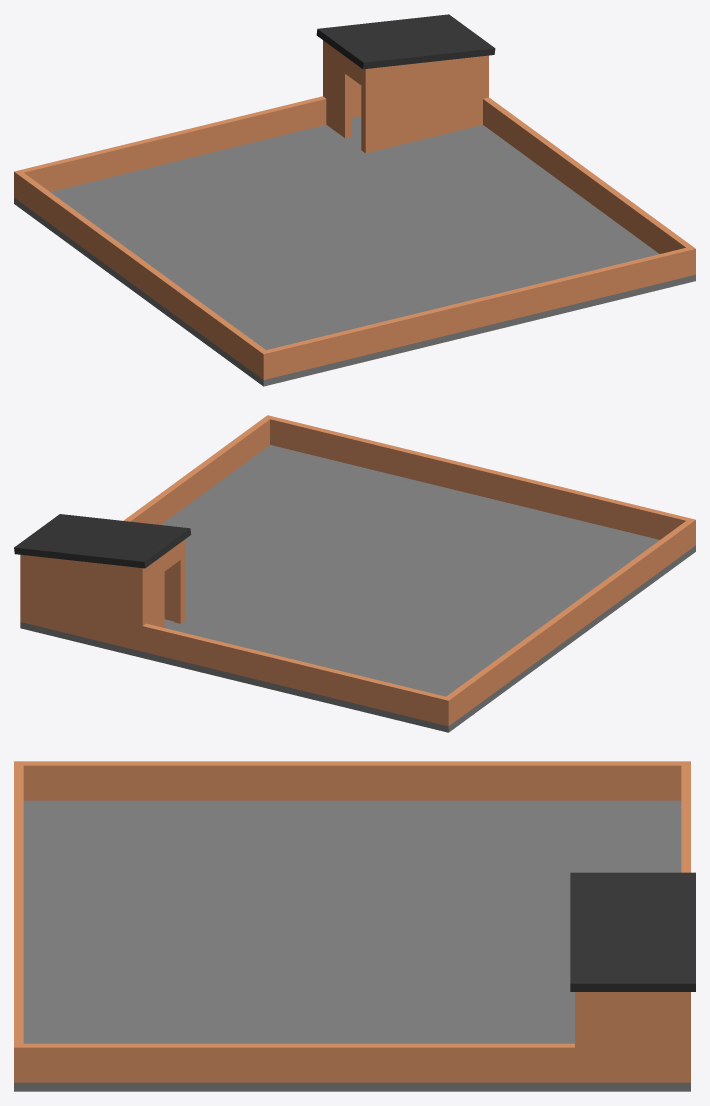
Rendered from SM_Level_99.fbx.
The picture shows the model from 3 angles, top to bottom: view 1: azimuth 30°, elevation 25°; view 2: azimuth 150°, elevation 25°; view 3: azimuth 270°, elevation 25°; orthographic projection. The views are drawn at different scales.
Visible parts, largest first — view 1: SM_Level_99; view 2: SM_Level_99; view 3: SM_Level_99.
Boxes of the visible parts, box(x1,y1,x2,y2) form: SM_Level_99: box(14, 14, 695, 386); SM_Level_99: box(14, 415, 695, 732); SM_Level_99: box(14, 761, 695, 1091).
Size of the model in its own units: 14.15 by 14.1 by 3.07.
